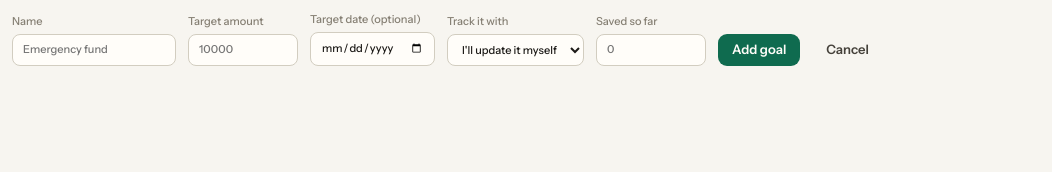
Test: GoalForm › explains a target of zero
In the field labelled "Name": (94, 50) top-left (12, 34), bottom-right (176, 66), type "Trip"
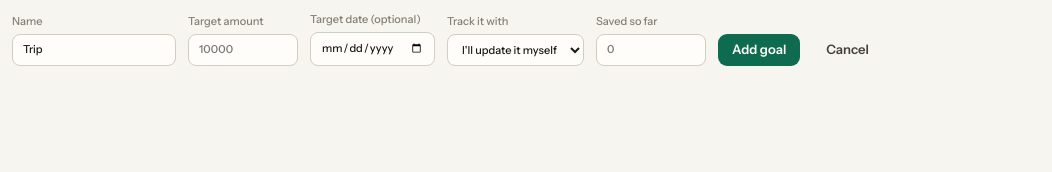
In the field labelled "Target amount": (243, 50) top-left (188, 34), bottom-right (298, 66), type "0"
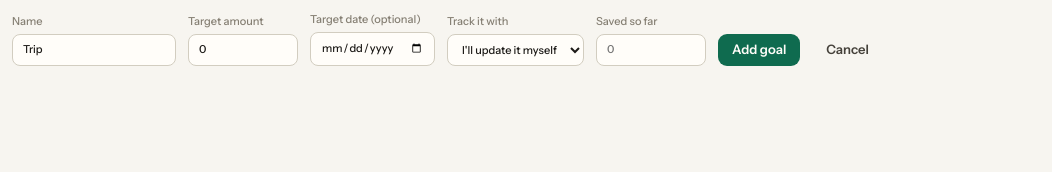
Click the button "Add goal": (759, 50) top-left (718, 34), bottom-right (800, 66)
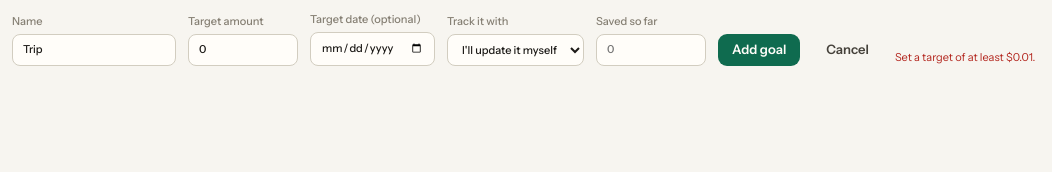
Expected: the message reads "Set a target of at least $0.01.", top-left (895, 50), bottom-right (1035, 64)
